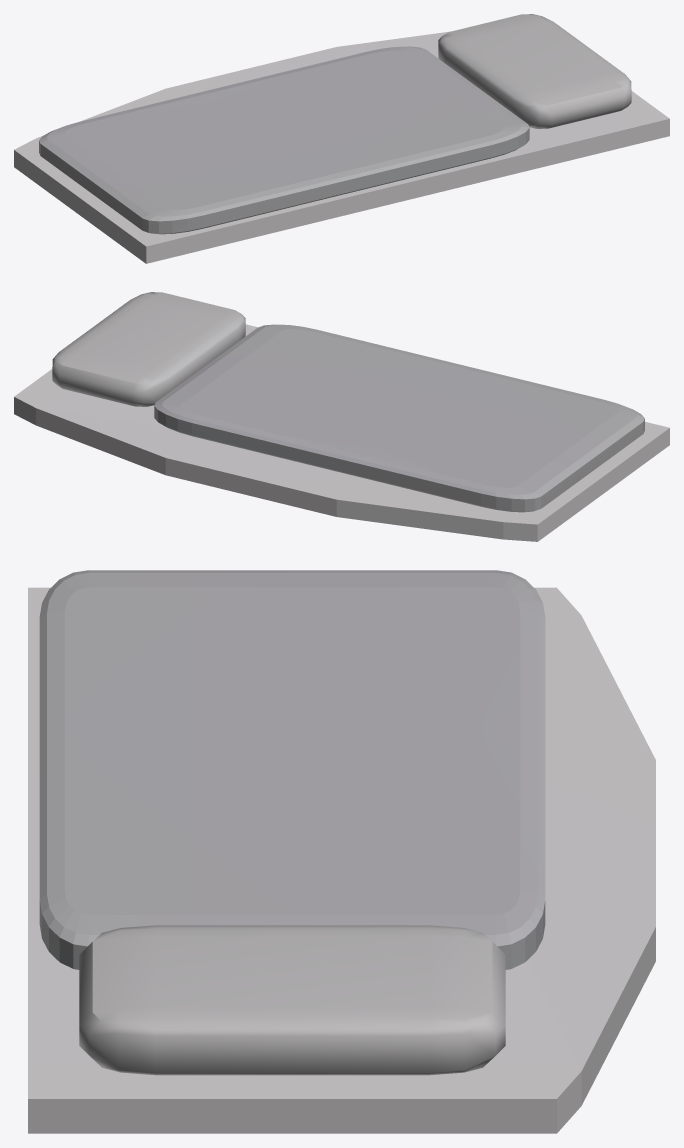
File: hangedBedOnLeft 1.fbx
3 renders of one model, top to bottom at view 1: azimuth 30°, elevation 25°; view 2: azimuth 150°, elevation 25°; view 3: azimuth 270°, elevation 25°, orthographic. The views are drawn at different scales.
Visible parts, largest first — view 1: hangedBedOnLeft; view 2: hangedBedOnLeft; view 3: hangedBedOnLeft.
Boxes of the visible parts, box(x1,y1,x2,y2) form: hangedBedOnLeft: box(14, 14, 669, 263); hangedBedOnLeft: box(14, 292, 669, 541); hangedBedOnLeft: box(28, 570, 655, 1133).
Size of the model in its own units: 10264 by 883 by 5328.
